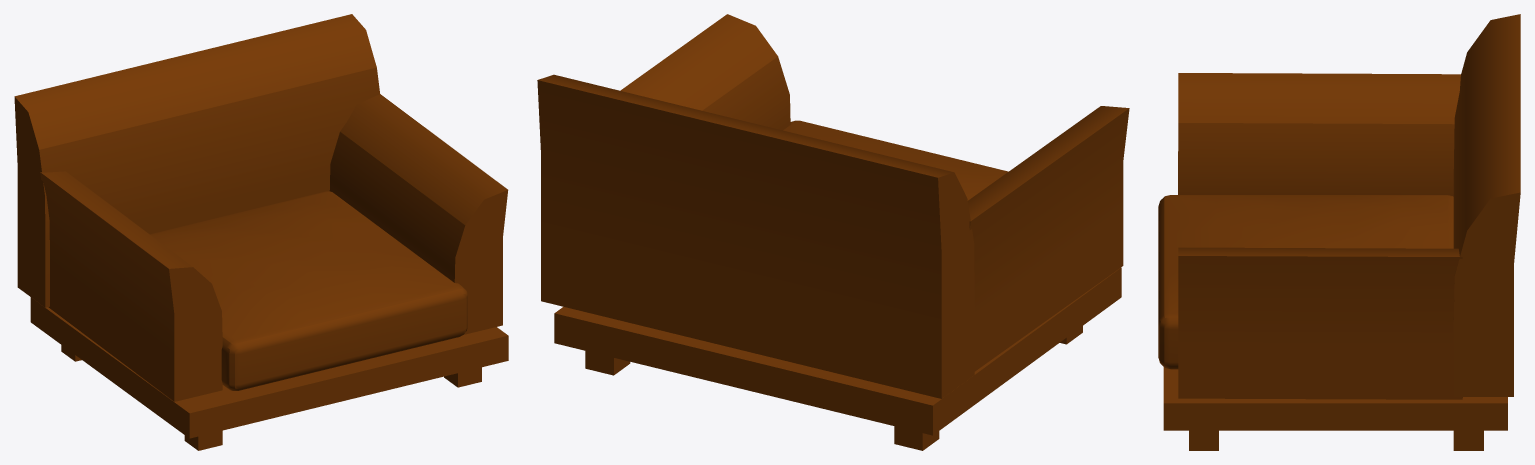
The model's file is Chair.fbx.
The picture shows the model from 3 angles, left to right: view 1: azimuth 30°, elevation 25°; view 2: azimuth 150°, elevation 25°; view 3: azimuth 270°, elevation 25°; orthographic projection. The views are drawn at different scales.
Visible parts, largest first — view 1: pCube7; view 2: pCube7; view 3: pCube7.
Part boxes in pixels (<box>): pCube7: <box>14,14,508,450</box>; pCube7: <box>537,14,1129,450</box>; pCube7: <box>1158,14,1520,450</box>.
Bounding box in the file's own units: 14.15 × 9.91 × 12.02.
